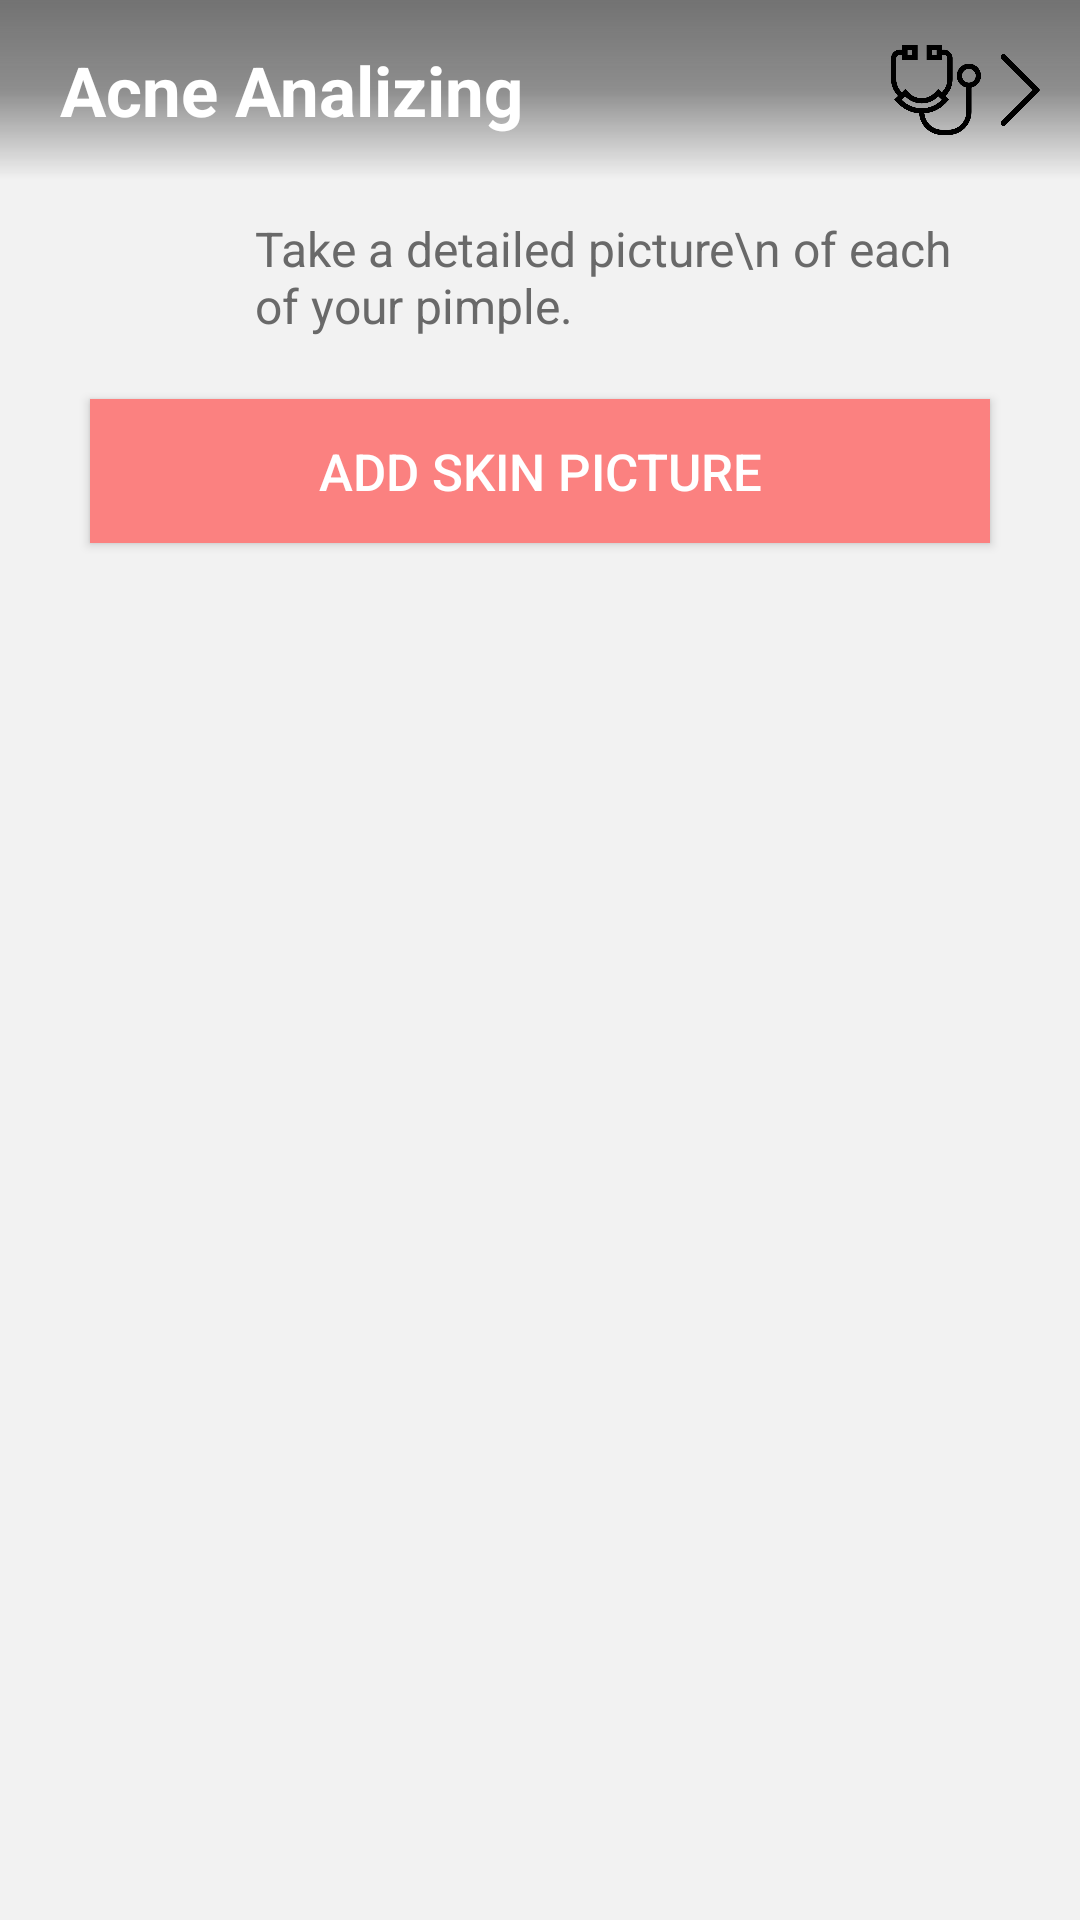

Point at icon controls on the screen. Image size 1080×1920, points as (x=x, y=y).
clinic: (x=936, y=90)
next: (x=1026, y=90)
